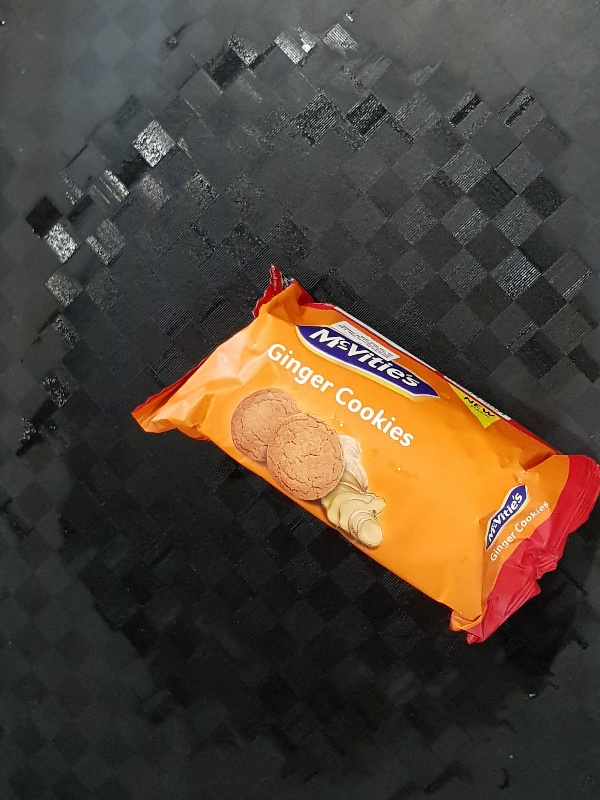McVitie's Ginger Cookies: (130, 262, 600, 647)
